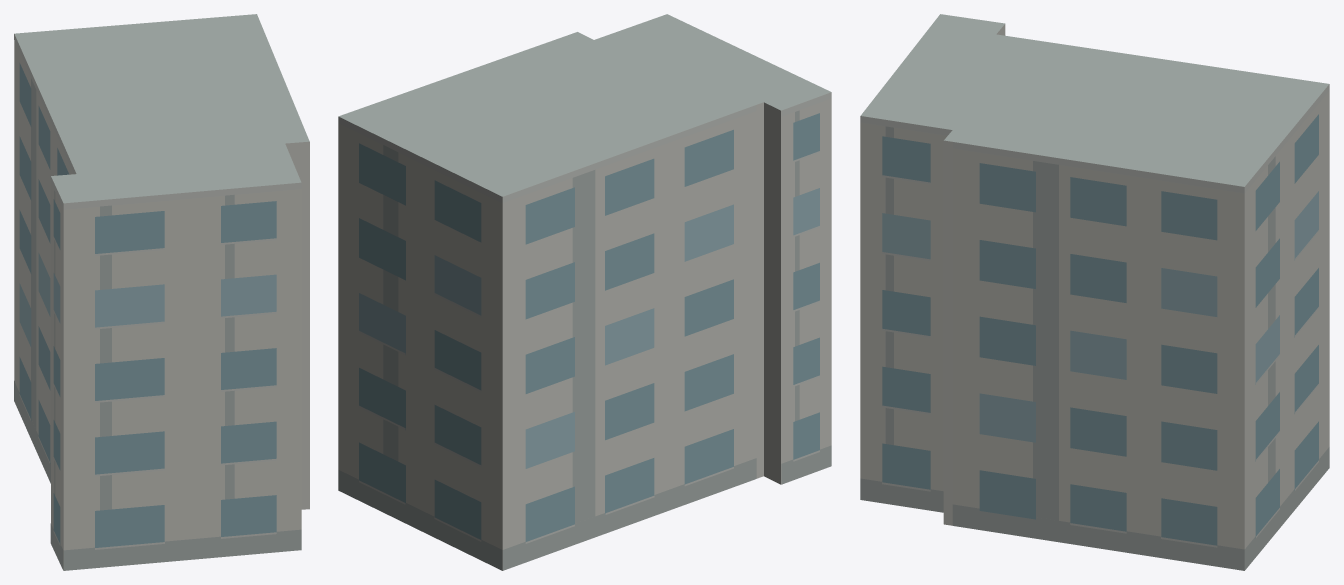
Rendered from survey-upis-32854246.glb.
3 views of the same model, side by side, from view 1: azimuth 30°, elevation 25°; view 2: azimuth 150°, elevation 25°; view 3: azimuth 270°, elevation 25° (orthographic). The views are drawn at different scales.
Parts seen in each view (by area): view 1: survey-upis-32854246.tmp; view 2: survey-upis-32854246.tmp; view 3: survey-upis-32854246.tmp.
Boxes of the visible parts, x1,y1,x2,y2 form: survey-upis-32854246.tmp: [14, 14, 309, 570]; survey-upis-32854246.tmp: [338, 14, 831, 570]; survey-upis-32854246.tmp: [860, 14, 1329, 570].
Size of the model in its own units: 13.72 by 14.2 by 15.73.
